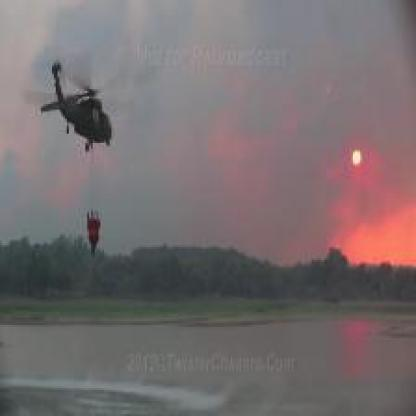other: (324, 129, 412, 266)
